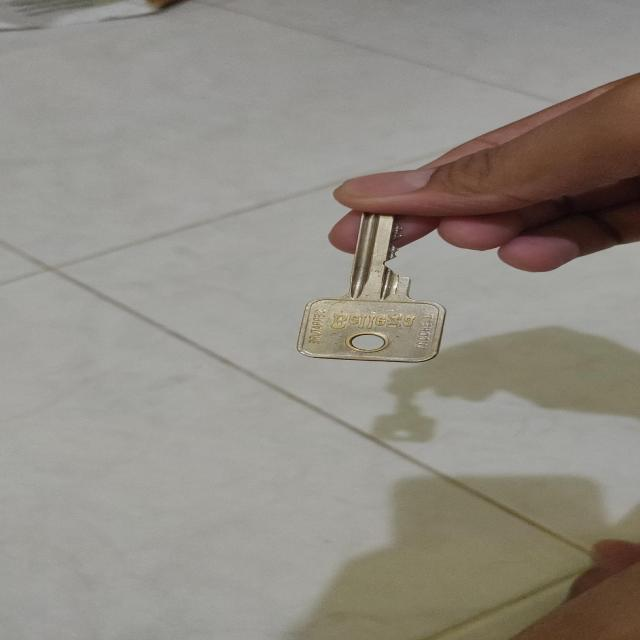kunci_kos: (278, 189, 458, 374)
